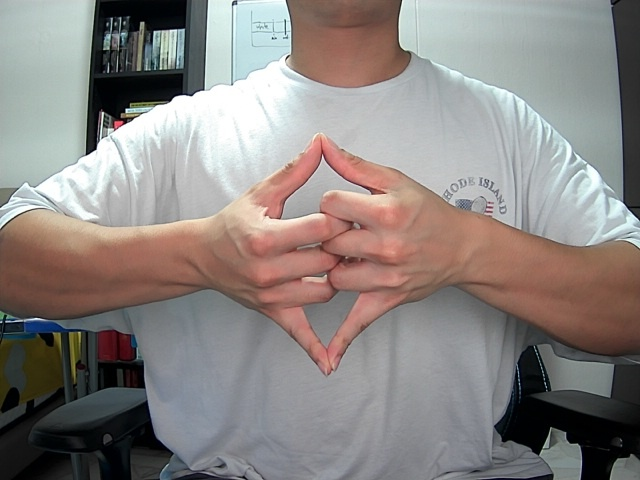Dragon: (200, 122, 454, 379)
